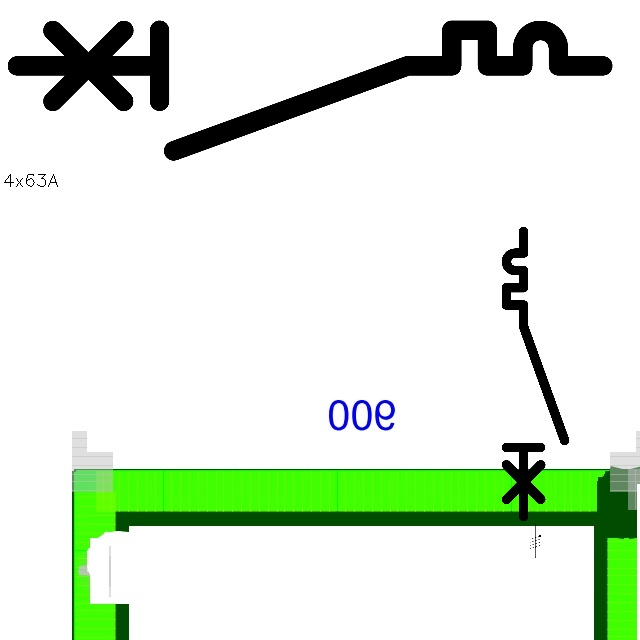interruptor_termomagnetico: (2, 15, 618, 165), (499, 224, 572, 524)
